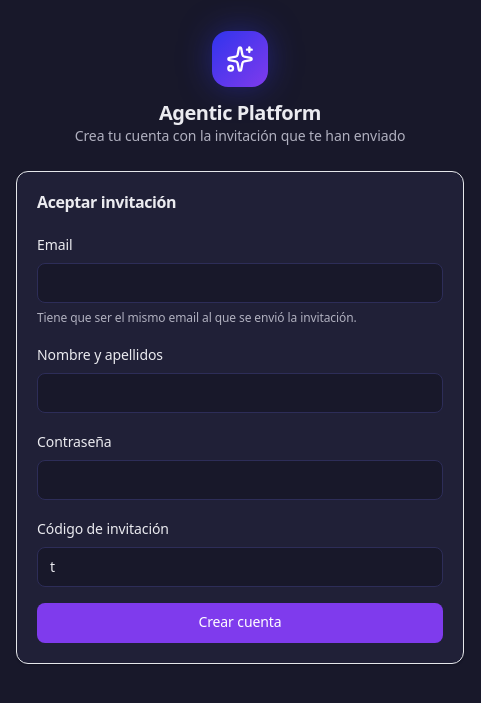
Test: Canje de invitación › un 409 dice que la cuenta ya existe (ahí sí hay motivo conocido)
In the field with test id "accept-invite-email": (240, 283) [37,263,443,303], type "invitee@example.com"
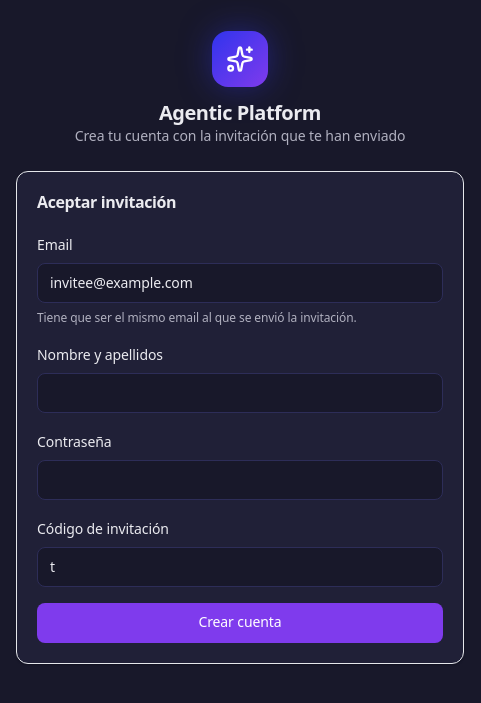
In the password field with test id "accept-invite-password": (240, 480) [37,460,443,500], type "longenoughpw"
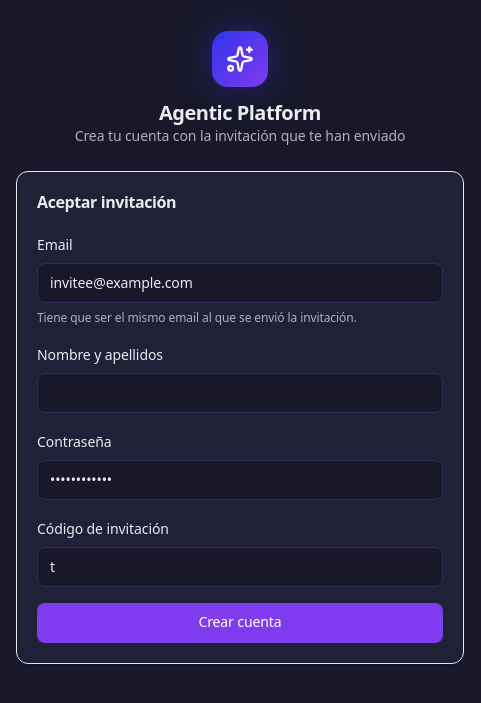
Submit the form with test id "accept-invite-form", box [37,232,443,643]
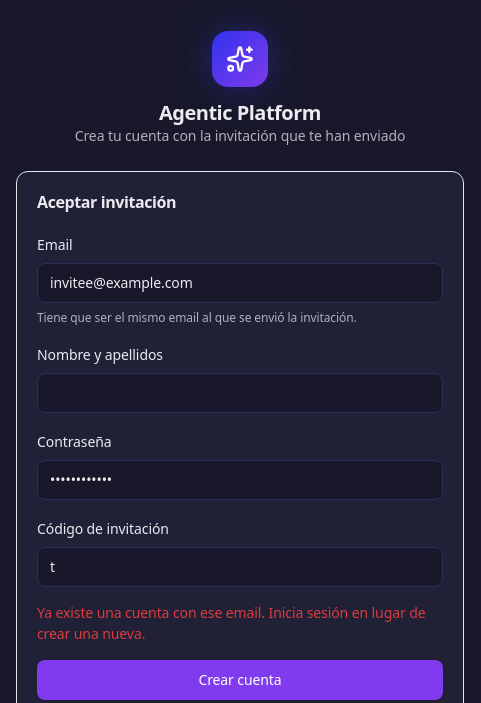
Check: the message "Ya existe una cuenta con ese email. Inicia sesión en lugar de crear una nueva." is shown, box [37,603,443,644]
Check: the message with test id "accept-invite-error" shows "Ya existe una cuenta", box [37,603,426,643]
